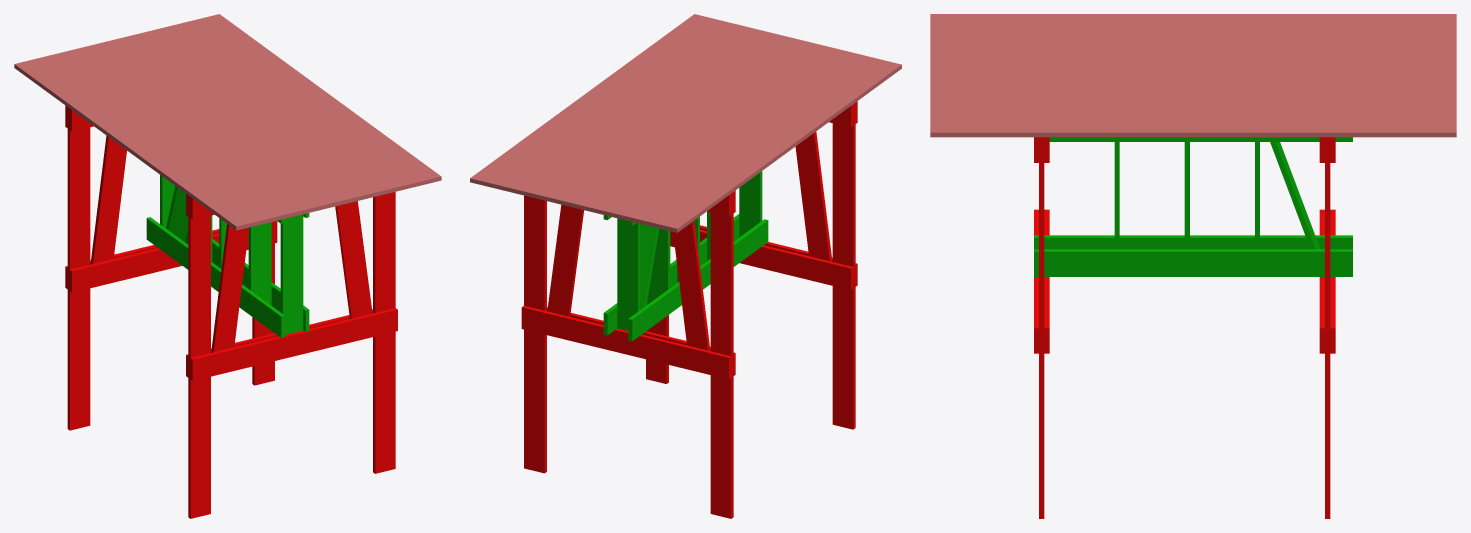
The model's file is result.glb.
The picture shows the model from 3 angles, left to right: view 1: azimuth 30°, elevation 25°; view 2: azimuth 150°, elevation 25°; view 3: azimuth 270°, elevation 25°; orthographic projection. The views are drawn at different scales.
Visible parts, largest first — view 1: d2b2070f-d465-4764-9c02-30b5e19c5a66__undefined, 865b1df2-efa8-436c-b5d2-314043d5423b__sideV, 88405356-5da3-46bd-b1a8-60a25078d036__sideV, f5383ccf-ca19-4061-b5e5-db497c7cfb58__Box, 8ae03693-c8b0-49a7-a834-5a455d556ce5__sideH, 03b28fe3-6b6c-41a3-94b1-ebbfbf368e5b__undefined, 5dbac2f0-5c79-4cf9-b81b-99700f837301__undefined, 71cb0a89-9c70-4367-bfe2-609299b5e43e__undefined, d0408179-aaae-4ad9-9817-c488186f5391__undefined, b54b675c-3915-4d93-82fe-59c66f12af2a__undefined, f5093b9f-3027-4d78-a7e6-4bd0f9d97e78__undefined, 5db4c64d-a079-4c00-9863-008489442136__undefined (+14 smaller); view 2: d2b2070f-d465-4764-9c02-30b5e19c5a66__undefined, 865b1df2-efa8-436c-b5d2-314043d5423b__sideV, 2b02cbac-772b-442e-9946-ddac54efd8f1__undefined, f5383ccf-ca19-4061-b5e5-db497c7cfb58__Box, e9dd4562-ff84-4da8-a19a-0adecbb7c34f__undefined, 03b28fe3-6b6c-41a3-94b1-ebbfbf368e5b__undefined, b54b675c-3915-4d93-82fe-59c66f12af2a__undefined, 5db4c64d-a079-4c00-9863-008489442136__undefined, d0408179-aaae-4ad9-9817-c488186f5391__undefined, 5dbac2f0-5c79-4cf9-b81b-99700f837301__undefined, f67ec9db-ece3-4fd9-a872-b9a65b657b12__undefined, 71cb0a89-9c70-4367-bfe2-609299b5e43e__undefined (+13 smaller); view 3: 73578ec9-c526-4187-99b8-333fb27b49d9__undefined, db921a9e-e19f-4e43-89b2-06c754856860__strutH, d0408179-aaae-4ad9-9817-c488186f5391__undefined, 03b28fe3-6b6c-41a3-94b1-ebbfbf368e5b__undefined, b54b675c-3915-4d93-82fe-59c66f12af2a__undefined, f5093b9f-3027-4d78-a7e6-4bd0f9d97e78__undefined, f5383ccf-ca19-4061-b5e5-db497c7cfb58__Box, 71cb0a89-9c70-4367-bfe2-609299b5e43e__undefined, f67ec9db-ece3-4fd9-a872-b9a65b657b12__undefined, 5db4c64d-a079-4c00-9863-008489442136__undefined, 5dbac2f0-5c79-4cf9-b81b-99700f837301__undefined, 1e9b97f8-4b44-493c-9551-8eaa165faeda__strutH (+9 smaller).
Part boxes in pixels (x1,y1,x2,y2): d2b2070f-d465-4764-9c02-30b5e19c5a66__undefined: (67,107,90,430); 865b1df2-efa8-436c-b5d2-314043d5423b__sideV: (188,195,210,518); 88405356-5da3-46bd-b1a8-60a25078d036__sideV: (373,192,395,473); f5383ccf-ca19-4061-b5e5-db497c7cfb58__Box: (14,59,256,230); 8ae03693-c8b0-49a7-a834-5a455d556ce5__sideH: (190,308,397,380); 03b28fe3-6b6c-41a3-94b1-ebbfbf368e5b__undefined: (76,44,318,215); 5dbac2f0-5c79-4cf9-b81b-99700f837301__undefined: (179,19,420,190); 71cb0a89-9c70-4367-bfe2-609299b5e43e__undefined: (35,54,277,225); d0408179-aaae-4ad9-9817-c488186f5391__undefined: (56,49,297,220); b54b675c-3915-4d93-82fe-59c66f12af2a__undefined: (97,39,338,210); f5093b9f-3027-4d78-a7e6-4bd0f9d97e78__undefined: (117,34,359,205); 5db4c64d-a079-4c00-9863-008489442136__undefined: (158,24,400,195); d2b2070f-d465-4764-9c02-30b5e19c5a66__undefined: (710,192,733,518); 865b1df2-efa8-436c-b5d2-314043d5423b__sideV: (832,103,855,429); 2b02cbac-772b-442e-9946-ddac54efd8f1__undefined: (524,195,546,473); f5383ccf-ca19-4061-b5e5-db497c7cfb58__Box: (656,59,901,232); e9dd4562-ff84-4da8-a19a-0adecbb7c34f__undefined: (521,305,731,379); 03b28fe3-6b6c-41a3-94b1-ebbfbf368e5b__undefined: (594,44,839,217); b54b675c-3915-4d93-82fe-59c66f12af2a__undefined: (573,39,818,212); 5db4c64d-a079-4c00-9863-008489442136__undefined: (511,24,756,197); d0408179-aaae-4ad9-9817-c488186f5391__undefined: (615,49,859,222); 5dbac2f0-5c79-4cf9-b81b-99700f837301__undefined: (491,19,735,192); f67ec9db-ece3-4fd9-a872-b9a65b657b12__undefined: (532,29,776,202); 71cb0a89-9c70-4367-bfe2-609299b5e43e__undefined: (636,54,880,227); 73578ec9-c526-4187-99b8-333fb27b49d9__undefined: (930,120,1456,137); db921a9e-e19f-4e43-89b2-06c754856860__strutH: (1034,249,1352,276); d0408179-aaae-4ad9-9817-c488186f5391__undefined: (930,37,1456,49); 03b28fe3-6b6c-41a3-94b1-ebbfbf368e5b__undefined: (930,49,1456,61); b54b675c-3915-4d93-82fe-59c66f12af2a__undefined: (930,61,1456,73); f5093b9f-3027-4d78-a7e6-4bd0f9d97e78__undefined: (930,73,1456,85); f5383ccf-ca19-4061-b5e5-db497c7cfb58__Box: (930,14,1456,25); 71cb0a89-9c70-4367-bfe2-609299b5e43e__undefined: (930,26,1456,37); f67ec9db-ece3-4fd9-a872-b9a65b657b12__undefined: (930,85,1456,96); 5db4c64d-a079-4c00-9863-008489442136__undefined: (930,97,1456,108); 5dbac2f0-5c79-4cf9-b81b-99700f837301__undefined: (930,109,1456,120); 1e9b97f8-4b44-493c-9551-8eaa165faeda__strutH: (1034,235,1352,249).
Size of the model in its own units: 800 by 1215 by 1500.
